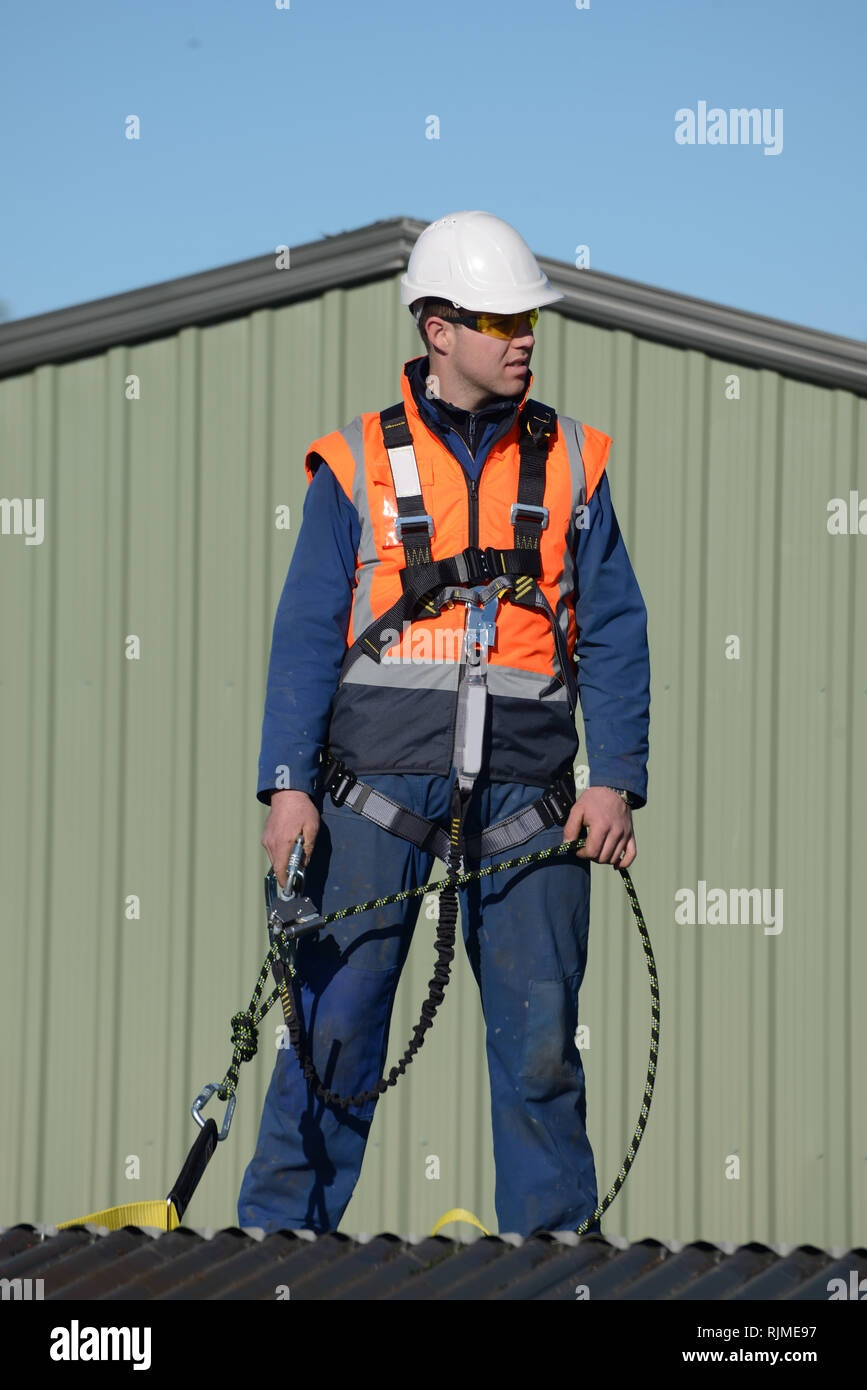Helmet: (409, 221, 555, 320)
Person: (252, 191, 615, 1237)
Safety_Harness: (299, 408, 594, 884)
